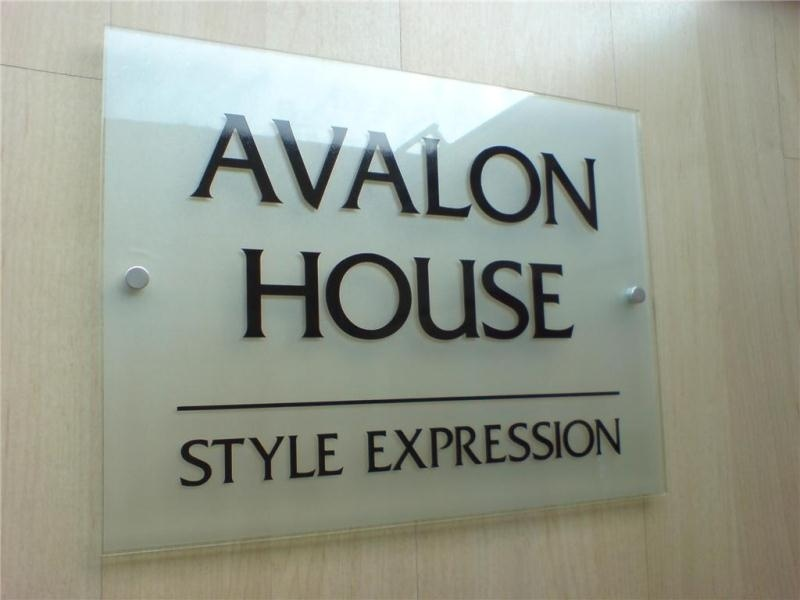text: (225, 110, 240, 233), (241, 110, 256, 233), (257, 110, 272, 233), (273, 110, 288, 233), (289, 110, 304, 233), (305, 110, 320, 233), (321, 110, 336, 233), (337, 110, 352, 233), (353, 110, 368, 233), (369, 110, 384, 233), (385, 110, 400, 233), (401, 110, 416, 233), (417, 110, 432, 233), (433, 110, 448, 233), (449, 110, 464, 233), (465, 110, 480, 233), (481, 110, 496, 233), (497, 110, 512, 233), (513, 110, 528, 233), (529, 110, 544, 233), (545, 110, 560, 233), (561, 110, 576, 233), (577, 110, 592, 233), (241, 248, 256, 341), (257, 248, 272, 341), (273, 248, 288, 341), (289, 248, 304, 341), (305, 248, 320, 341), (321, 248, 336, 341), (337, 248, 352, 341), (353, 248, 368, 341), (369, 248, 384, 341), (385, 248, 400, 341), (401, 248, 416, 341), (417, 248, 432, 341), (433, 248, 448, 341), (449, 248, 464, 341), (465, 248, 480, 341), (481, 248, 496, 341), (497, 248, 512, 341), (513, 248, 528, 341), (529, 248, 544, 341), (545, 248, 560, 341), (561, 248, 576, 341), (593, 110, 601, 233), (193, 431, 208, 489), (209, 431, 224, 489), (225, 431, 240, 489), (241, 431, 256, 489), (257, 431, 272, 489), (273, 431, 288, 489), (289, 431, 304, 489), (305, 431, 320, 489), (321, 431, 336, 489), (369, 416, 384, 474), (385, 416, 400, 474), (401, 416, 416, 474), (417, 416, 432, 474), (433, 416, 448, 474), (449, 416, 464, 474), (465, 416, 480, 474), (481, 416, 496, 474), (497, 416, 512, 474), (513, 416, 528, 474), (529, 416, 544, 474), (545, 416, 560, 474), (561, 416, 576, 474), (577, 416, 592, 474), (593, 416, 608, 474), (178, 431, 192, 489), (609, 416, 623, 474), (337, 431, 346, 489), (222, 110, 224, 233), (366, 416, 368, 474)
